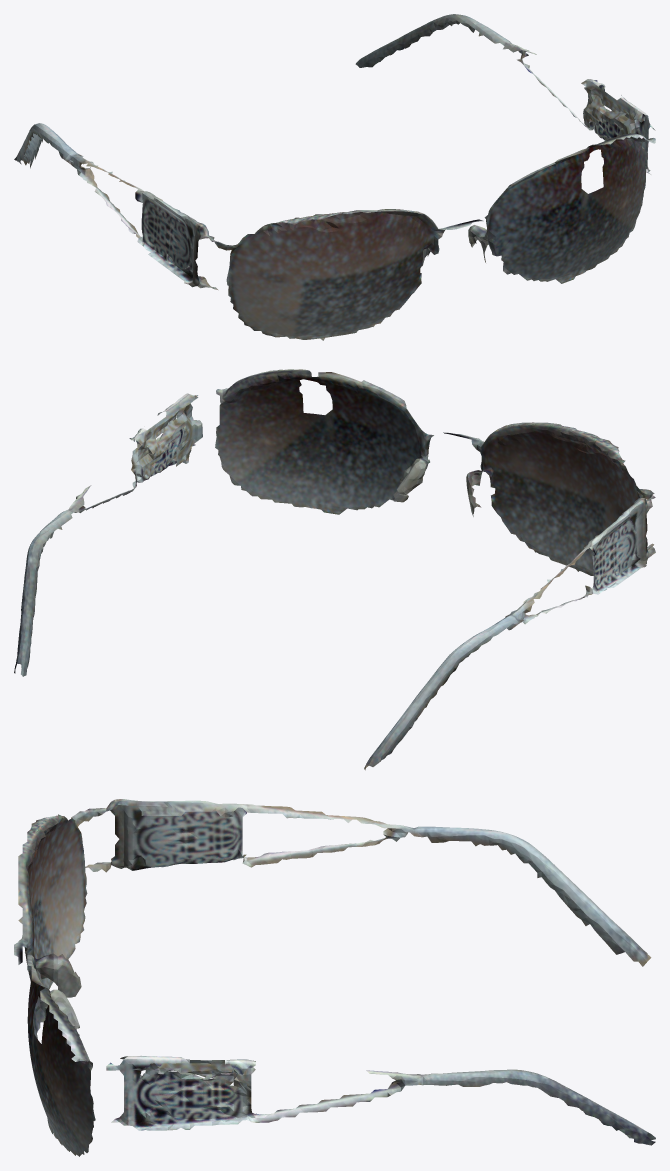
The model's file is scan_align.obj.
The picture shows the model from 3 angles, top to bottom: view 1: azimuth 30°, elevation 25°; view 2: azimuth 150°, elevation 25°; view 3: azimuth 270°, elevation 25°; orthographic projection. The views are drawn at different scales.
Bounding box in the file's own units: 0.1428 × 0.039 × 0.146.
1 material, 1 textured.
